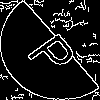P: (25, 25, 87, 79)
